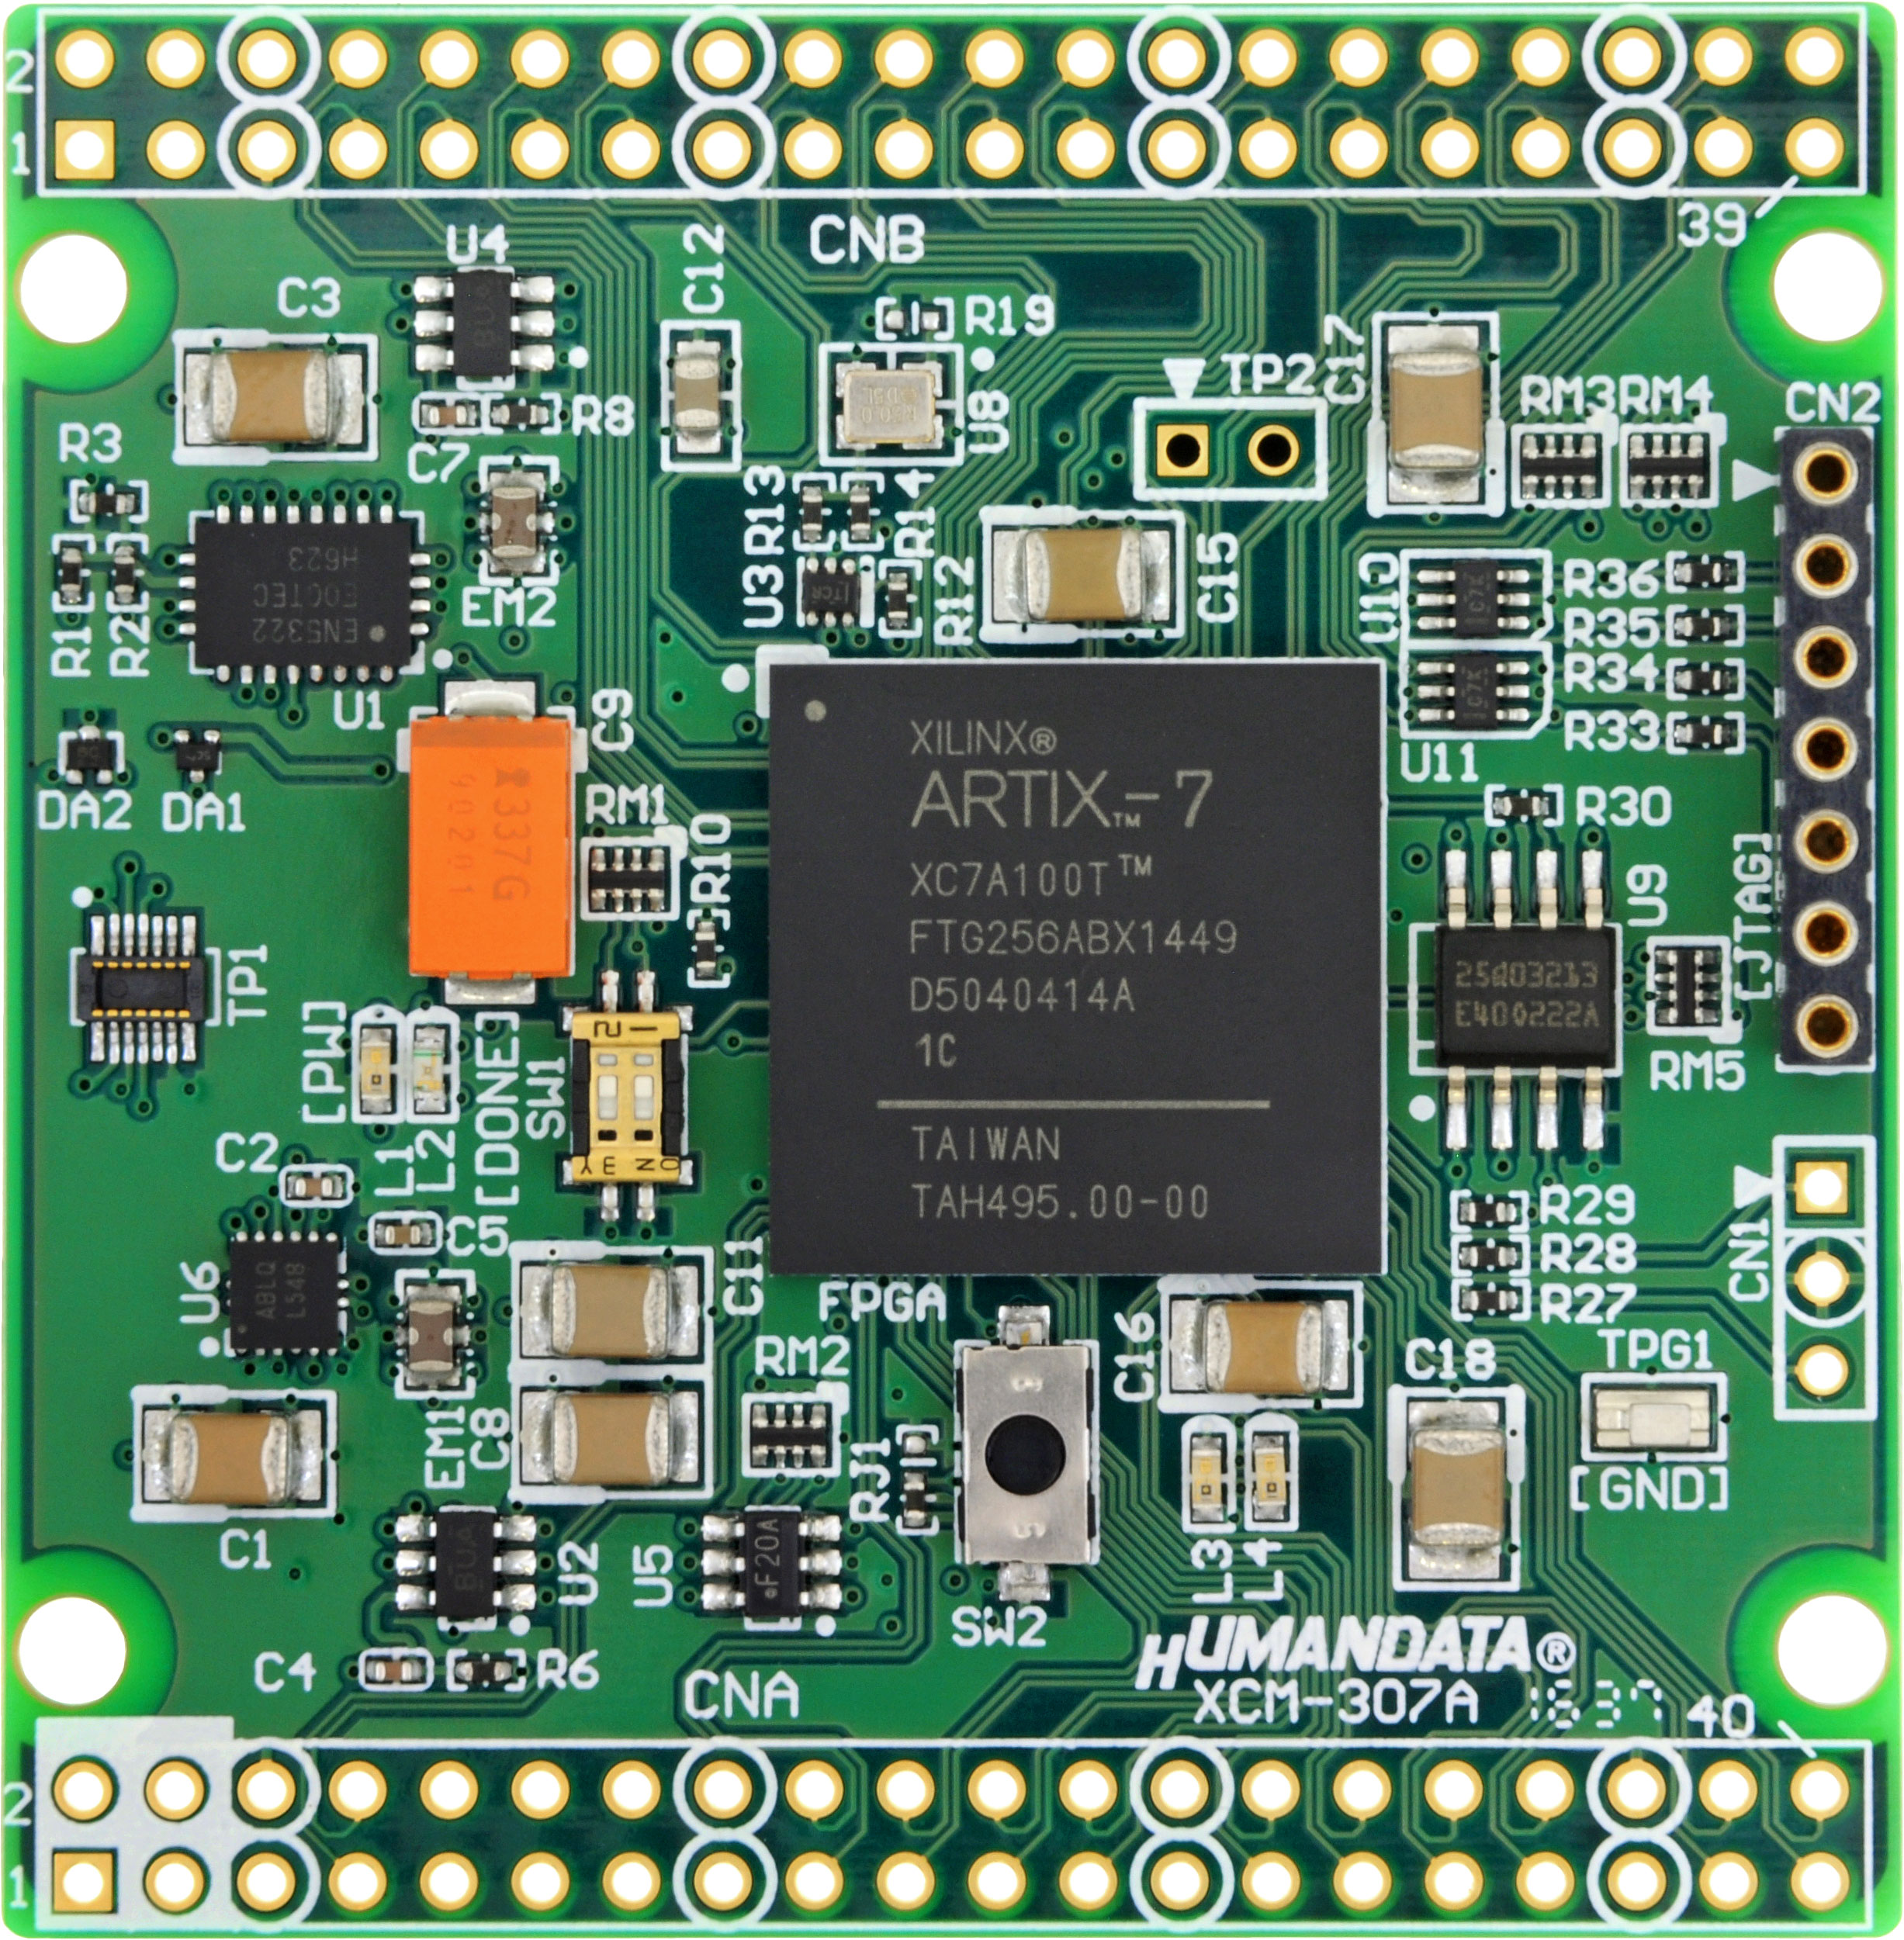button SW2: (959, 1307, 1098, 1604)
capacitor C1: (138, 1396, 331, 1513)
capacitor C11: (518, 1248, 708, 1370)
capacitor C15: (989, 514, 1180, 629)
capacitor C16: (1161, 1278, 1363, 1410)
capacitor C17: (1379, 317, 1496, 511)
capacitor C18: (1398, 1393, 1519, 1588)
capacitor C2: (282, 1166, 350, 1206)
capacitor C3: (180, 335, 373, 455)
capacitor C4: (361, 1654, 431, 1691)
capacitor C5: (373, 1213, 438, 1253)
capacitor C7: (415, 396, 486, 432)
capacitor C8: (516, 1375, 710, 1496)
capacitor c12: (666, 321, 739, 469)
clock U8: (825, 345, 961, 464)
component text" "0 N: (633, 1156, 680, 1173)
component text" "1 2: (586, 1016, 663, 1042)
component text" "25Q03213 E4O0222A: (1451, 955, 1604, 1037)
component text" "3 Y: (575, 1152, 619, 1177)
component text" "337G 90201: (443, 763, 541, 910)
component text" "ABL0 L548: (251, 1257, 310, 1328)
component text" "R50 0 D5L: (858, 383, 921, 427)
component text" "RN5322 E00TEC H623: (244, 537, 364, 652)
component text" "XILINX ARTIXTM-7 XC7A100TTM FTG256ABX1449 D5040414A 1C TAIWAN T: (905, 711, 1241, 1231)
component text" BU: (467, 300, 499, 354)
component text" BUA: (452, 1522, 479, 1595)
component text" C7K: (1463, 664, 1486, 711), (1466, 572, 1487, 615)
component text" F20A: (750, 1515, 783, 1590)
component text" SC: (75, 743, 101, 760)
component text" TCR: (811, 582, 846, 605)
connector CN1: (1778, 1140, 1869, 1414)
connector CN2: (1777, 425, 1871, 1070)
connector CNA: (31, 1736, 1873, 1928)
connector CNB: (40, 12, 1862, 193)
connector TP2: (1140, 403, 1323, 497)
connector TPG1: (1585, 1375, 1723, 1457)
electrolytic capacitor" C9: (410, 676, 574, 1004)
emi filter" EM1: (399, 1271, 473, 1396)
emi filter" EM2: (486, 460, 553, 579)
ic FPGA: (765, 657, 1383, 1276)
ic TP1: (71, 915, 218, 1063)
ic U1: (178, 504, 431, 685)
ic U10: (1405, 553, 1548, 648)
ic U11: (1404, 645, 1548, 737)
ic U2: (394, 1508, 537, 1612)
ic U3: (802, 556, 867, 626)
ic U4: (413, 268, 554, 375)
ic U5: (703, 1509, 846, 1609)
ic U6: (230, 1232, 347, 1358)
ic U9: (1442, 847, 1618, 1152)
led L1: (356, 1016, 401, 1121)
led L2: (408, 1016, 453, 1123)
led L3: (1184, 1426, 1233, 1529)
led L4: (1248, 1426, 1294, 1530)
pads R19: (874, 296, 954, 343)
resistor R1: (56, 537, 92, 607)
resistor R10: (692, 915, 727, 983)
resistor R12: (882, 561, 917, 634)
resistor R13: (797, 476, 832, 547)
resistor R14: (846, 476, 881, 551)
resistor R2: (112, 537, 146, 608)
resistor R27: (1456, 1283, 1527, 1318)
resistor R28: (1454, 1238, 1526, 1272)
resistor R29: (1456, 1194, 1526, 1231)
resistor R3: (73, 485, 146, 519)
resistor R30: (1487, 786, 1561, 823)
resistor R33: (1672, 716, 1740, 750)
resistor R34: (1670, 662, 1742, 697)
resistor R35: (1670, 607, 1742, 643)
resistor R36: (1669, 553, 1742, 589)
resistor R6: (450, 1652, 523, 1691)
resistor R8: (486, 396, 560, 434)
resistor jumper" RJ1: (900, 1429, 938, 1532)
resistor network" RM1: (584, 842, 677, 917)
resistor network" RM2: (748, 1396, 839, 1473)
resistor network" RM3: (1515, 425, 1606, 505)
resistor network" RM4: (1623, 429, 1716, 505)
resistor network" RM5: (1651, 941, 1728, 1034)
switch SW1: (565, 969, 692, 1220)
text "HUMANDATA XCM-307A: (1133, 1612, 1531, 1731)
text "[DONE]: (471, 1006, 523, 1211)
text "[GND]: (1567, 1462, 1733, 1516)
text "[PW]: (296, 997, 349, 1126)
text 1: (5, 122, 35, 178), (5, 1862, 30, 1910)
text 1637: (1531, 1679, 1665, 1729)
text 2: (2, 44, 37, 101), (0, 1776, 33, 1832)
text 39: (1676, 199, 1749, 253)
text 40: (1684, 1689, 1759, 1740)
text C1: (214, 1527, 275, 1570)
text C11: (722, 1232, 765, 1319)
text C12: (678, 221, 729, 317)
text C15: (1193, 528, 1241, 624)
text C16: (1111, 1306, 1156, 1403)
text C18: (1398, 1333, 1501, 1382)
text C2: (214, 1129, 281, 1173)
text C3: (272, 272, 345, 322)
text C4: (253, 1649, 317, 1696)
text C5: (445, 1210, 511, 1258)
text C7: (405, 438, 473, 486)
text C8: (469, 1403, 509, 1471)
text C9: (593, 683, 638, 755)
text CN1: (1724, 1217, 1770, 1306)
text CN2: (1780, 376, 1883, 424)
text CNA: (682, 1665, 802, 1722)
text CNB: (804, 207, 931, 272)
text DA1: (159, 788, 249, 838)
text DA2: (31, 784, 138, 838)
text EM1: (422, 1403, 467, 1497)
text EM2: (460, 584, 561, 633)
text FPGA: (816, 1278, 949, 1325)
text L1: (373, 1140, 415, 1204)
text L2: (415, 1129, 459, 1197)
text L3: (1186, 1537, 1238, 1605)
text L4: (1238, 1536, 1287, 1607)
text R1: (47, 619, 98, 683)
text R10: (687, 807, 738, 905)
text R12: (931, 553, 976, 648)
text R13: (741, 464, 788, 561)
text R14: (889, 472, 935, 560)
text R19: (961, 289, 1060, 340)
text R2: (105, 612, 153, 683)
text R27: (1534, 1278, 1639, 1326)
text R28: (1534, 1231, 1639, 1278)
text R29: (1534, 1180, 1639, 1227)
text R3: (49, 420, 134, 467)
text R30: (1573, 779, 1676, 833)
text R33: (1561, 708, 1663, 755)
text R34: (1561, 650, 1662, 697)
text R35: (1561, 603, 1662, 650)
text R36: (1561, 553, 1662, 603)
text R6: (535, 1649, 602, 1692)
text R8: (570, 390, 636, 444)
text RJ1: (846, 1431, 893, 1527)
text RM1: (581, 779, 671, 828)
text RM2: (751, 1328, 853, 1382)
text RM3: (1513, 373, 1616, 418)
text RM4: (1616, 371, 1714, 420)
text RM5: (1646, 1046, 1749, 1096)
text SW1: (523, 1051, 567, 1145)
text SW2: (950, 1605, 1050, 1651)
text TP1: (225, 939, 270, 1028)
text TP2: (1219, 345, 1318, 397)
text TPG1: (1594, 1325, 1719, 1368)
text TRIANGLE: (1154, 350, 1208, 397), (1724, 1159, 1771, 1210)
text U1: (331, 688, 387, 734)
text U10: (1355, 549, 1398, 648)
text U11: (1397, 741, 1480, 786)
text U2: (553, 1541, 600, 1609)
text U3: (739, 563, 786, 633)
text U4: (441, 218, 514, 265)
text U5: (631, 1543, 675, 1611)
text U6: (174, 1257, 221, 1328)
text U8: (964, 389, 1011, 458)
text U9: (1728, 830, 1775, 1002), (1622, 858, 1672, 931)
zener diode" DA1: (173, 729, 221, 783)
zener diode" DA2: (63, 723, 120, 783)
